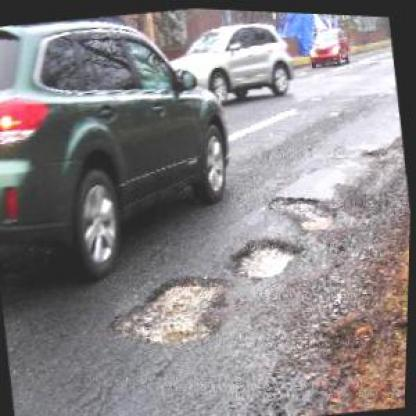pothole: (105, 260, 243, 358), (226, 226, 306, 284), (266, 182, 343, 237)
